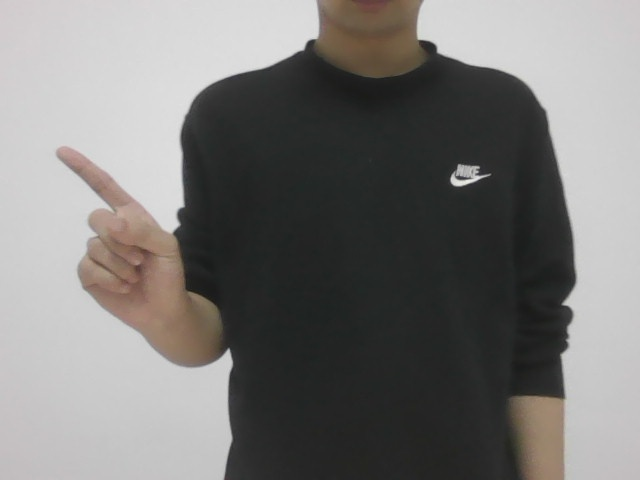what: (46, 138, 188, 342)
